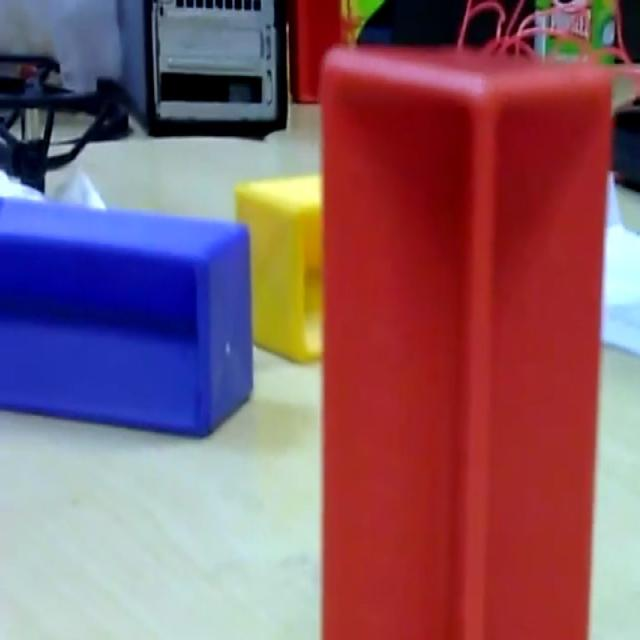blue_block: (1, 192, 254, 439)
red_block: (318, 41, 612, 636)
yellow_block: (234, 170, 324, 362)
